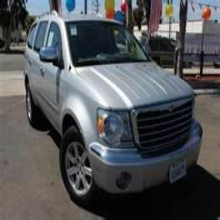no damage: (22, 13, 204, 203)
